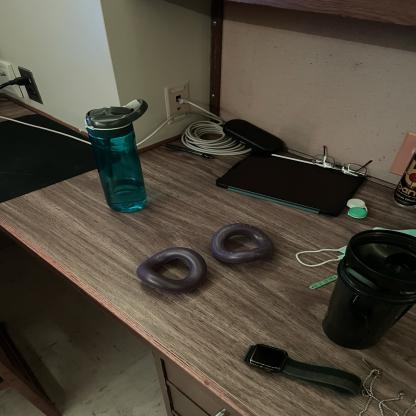ring: (135, 247, 207, 293), (207, 222, 274, 265)
